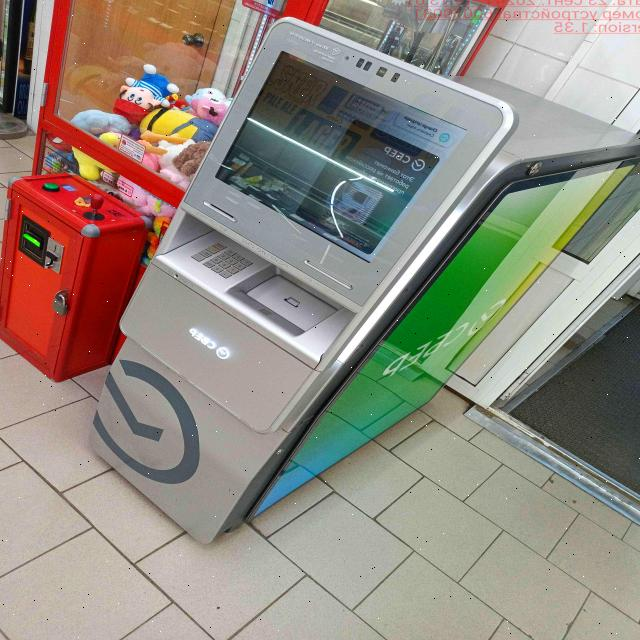bank: (93, 15, 640, 542)
